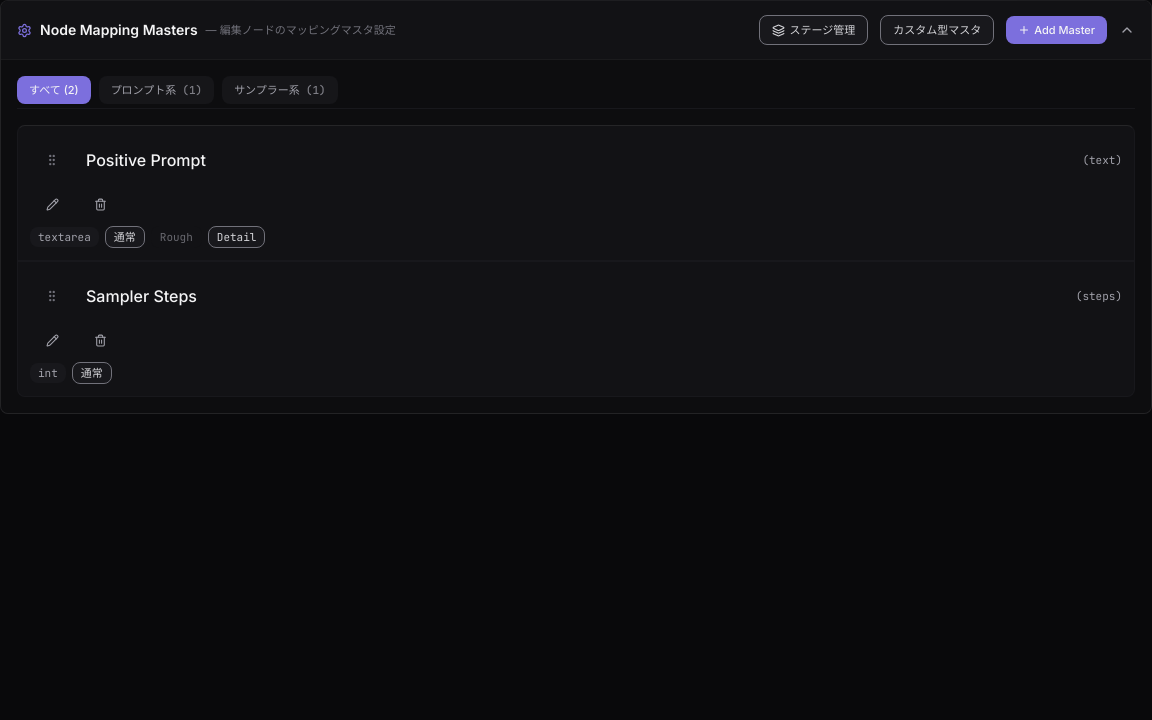
Test: MappingMasterSection & Modals › MappingMasterSection UI › [REQ-365/AC-4] opens ParamTypeMaster manager as a dialog from the カスタム型マスタ button and no longer renders the always-on bar
The image size is (1152, 720).
Check: the text "Positive Prompt" is shown, box [86,150,206,170]
Check: the button "新規型を作成" is not shown
Click the button "カスタム型マスタ" at x=937, y=30, box [880,15,994,45]
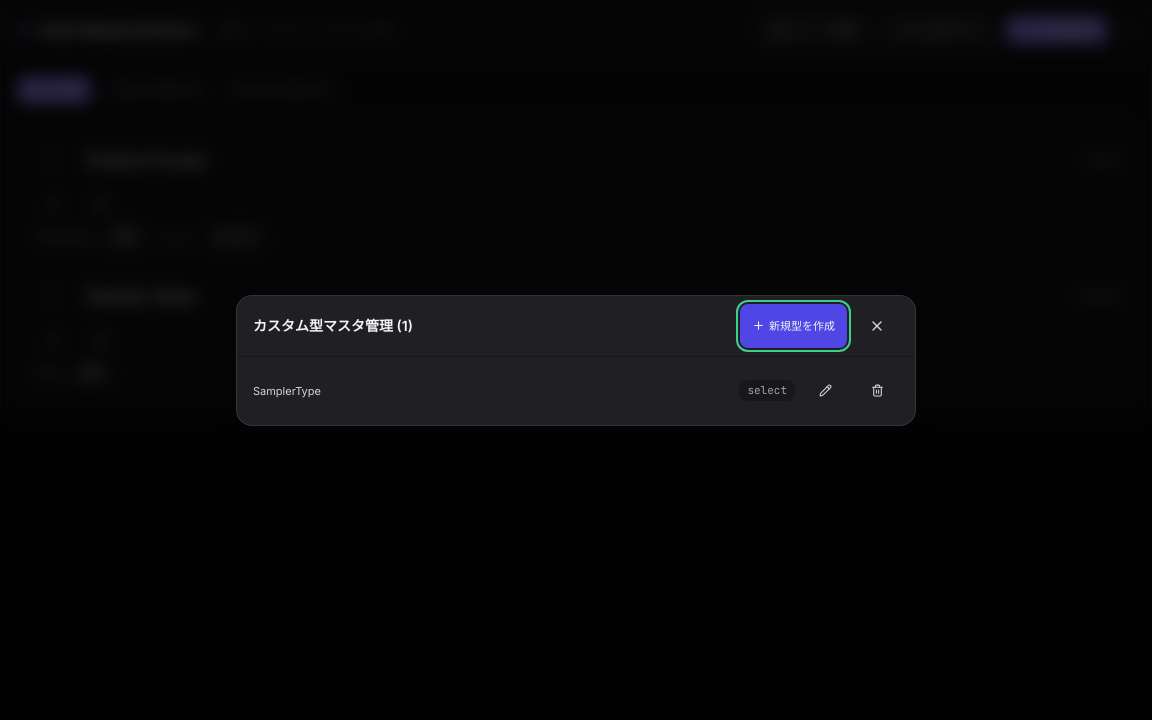
Check: the number of dialogs is 1, box [236,294,916,426]
